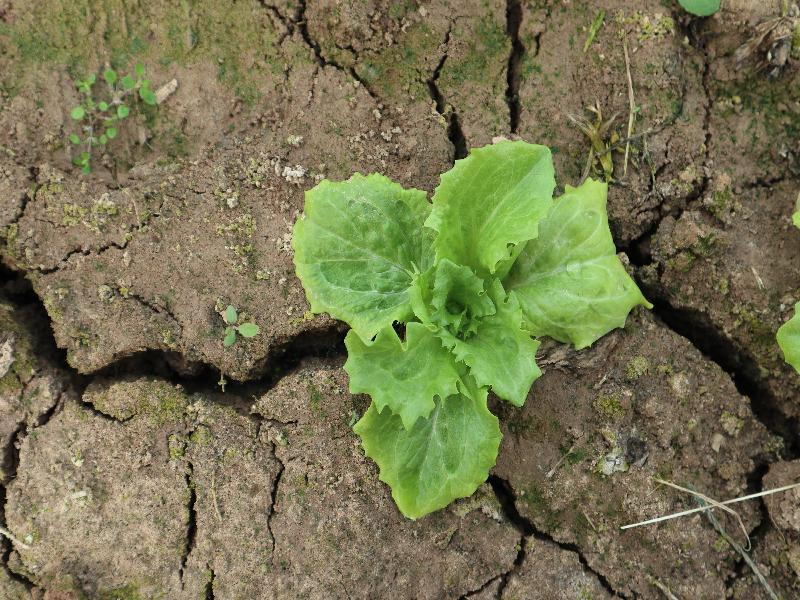lettuce: (292, 140, 651, 519)
